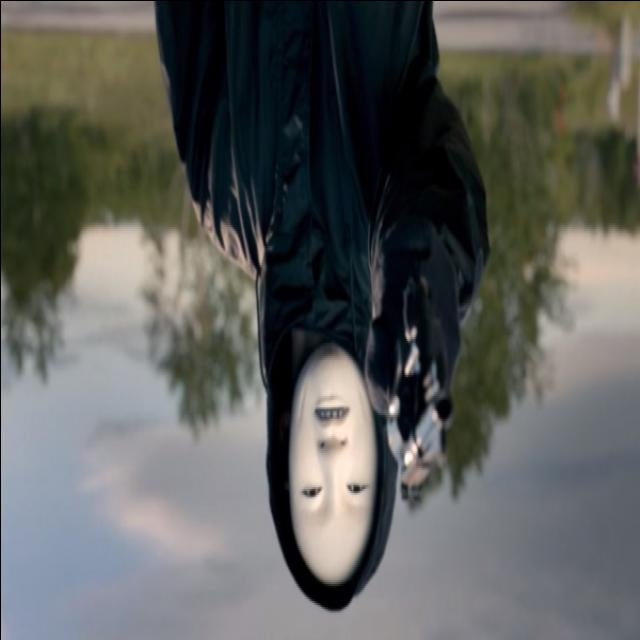weapons: (374, 255, 460, 502)
